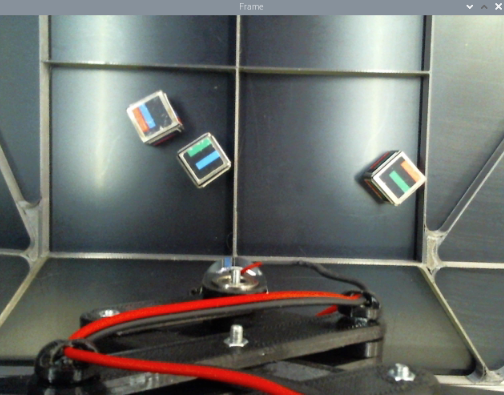Cube: (173, 126, 237, 190), (367, 144, 428, 209), (124, 86, 178, 146)
